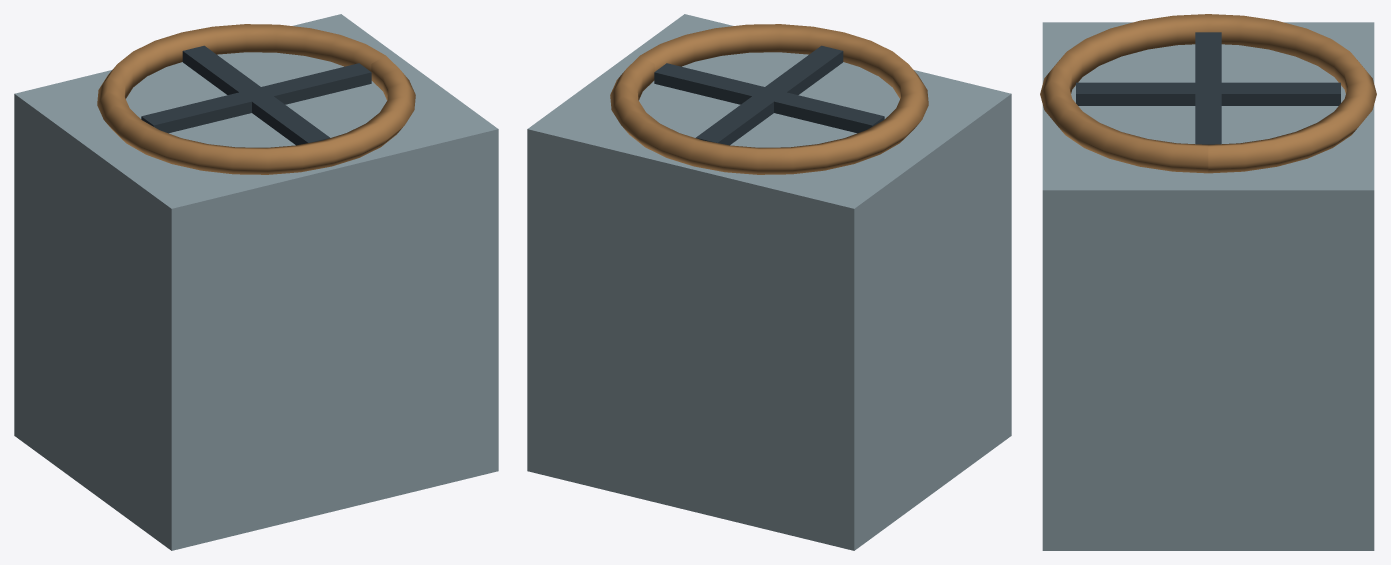
File: cooler.lod1.glb
3 views of the same model, side by side, from view 1: azimuth 30°, elevation 25°; view 2: azimuth 150°, elevation 25°; view 3: azimuth 270°, elevation 25° (orthographic). The views are drawn at different scales.
Parts seen in each view (by area): view 1: structure, fan; view 2: structure, fan; view 3: structure, fan.
Boxes of the visible parts, x1,y1,x2,y2 form: structure: [14, 14, 498, 550]; fan: [141, 45, 371, 145]; structure: [527, 14, 1011, 550]; fan: [654, 45, 884, 145]; structure: [1040, 14, 1376, 550]; fan: [1076, 32, 1340, 144].
Bounding box in the file's own units: 3 × 3.21 × 2.54.
